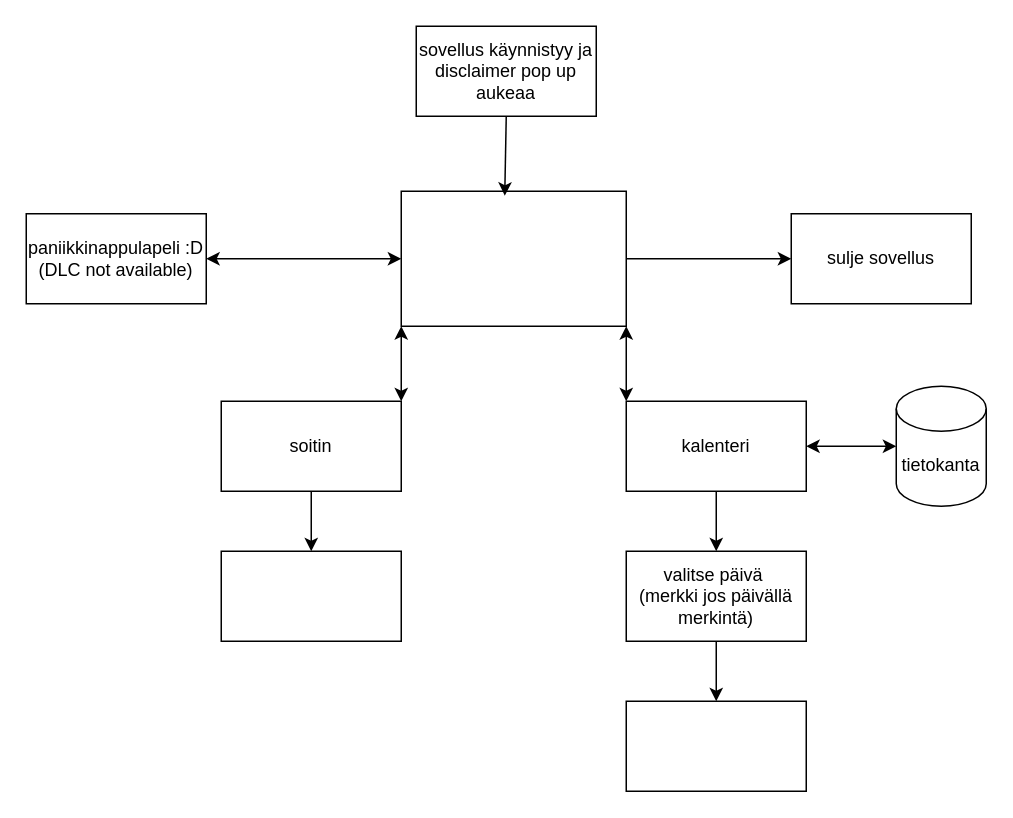
Image size: 1013x818. Some labels were removed from this diagram. Each missing label, with the centre of its shape:
Etusivu: point 513,258
kirjaa/lue merkintä: point 715,745
äänitteet: point 310,595
